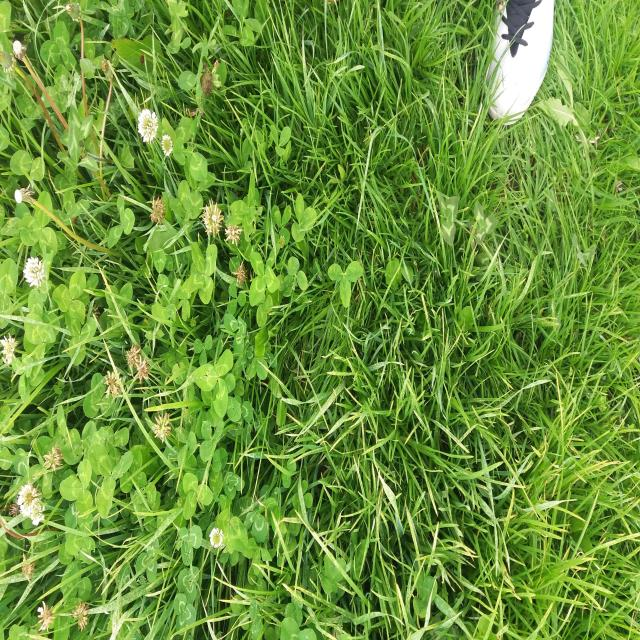Four Leaf Clover: (186, 242, 218, 304), (249, 243, 280, 307)
